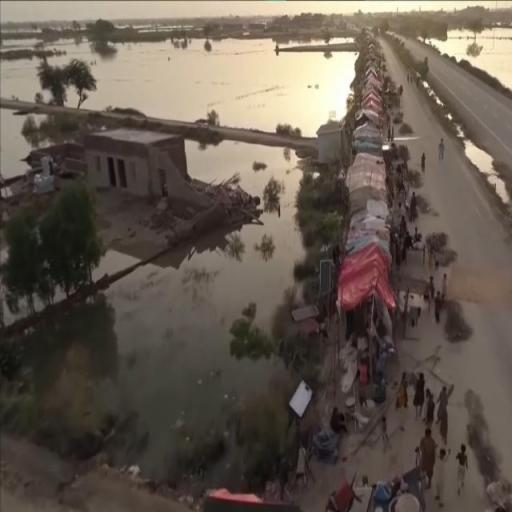flood: (105, 140, 304, 482), (46, 39, 357, 136), (427, 28, 512, 88), (0, 110, 74, 177), (466, 139, 511, 204), (93, 242, 155, 279), (1, 58, 42, 100)
house: (86, 128, 194, 196), (340, 242, 398, 337), (346, 152, 392, 202)
